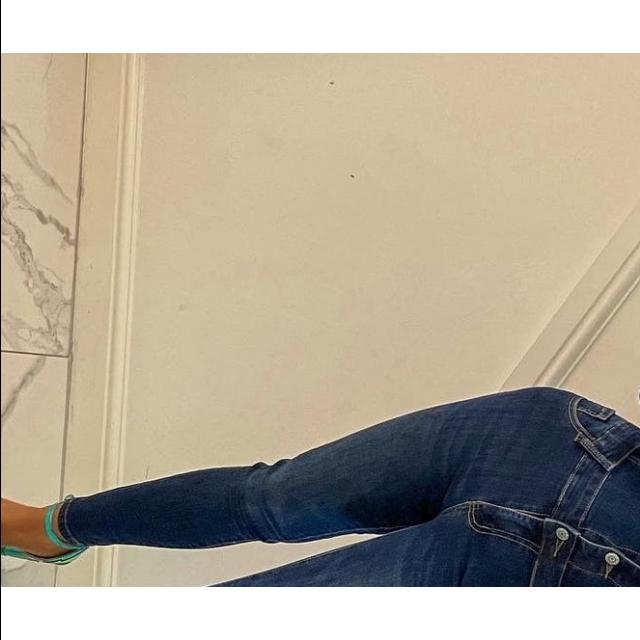denim: (0, 392, 640, 586)
